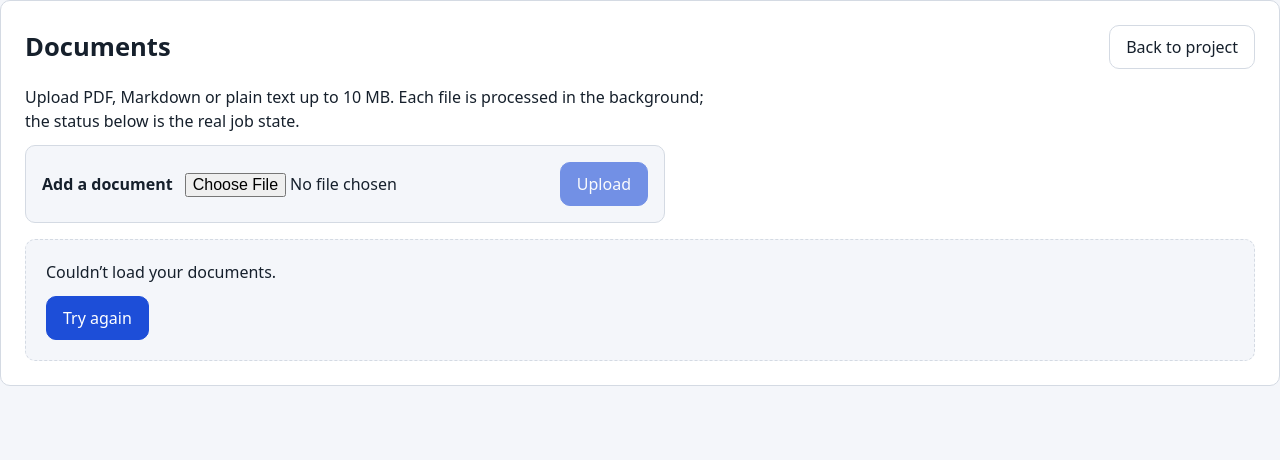
Test: the error state is actionable and a retry recovers the list
Click the button "Try again".
click(97, 318)  # box [46,296,149,340]
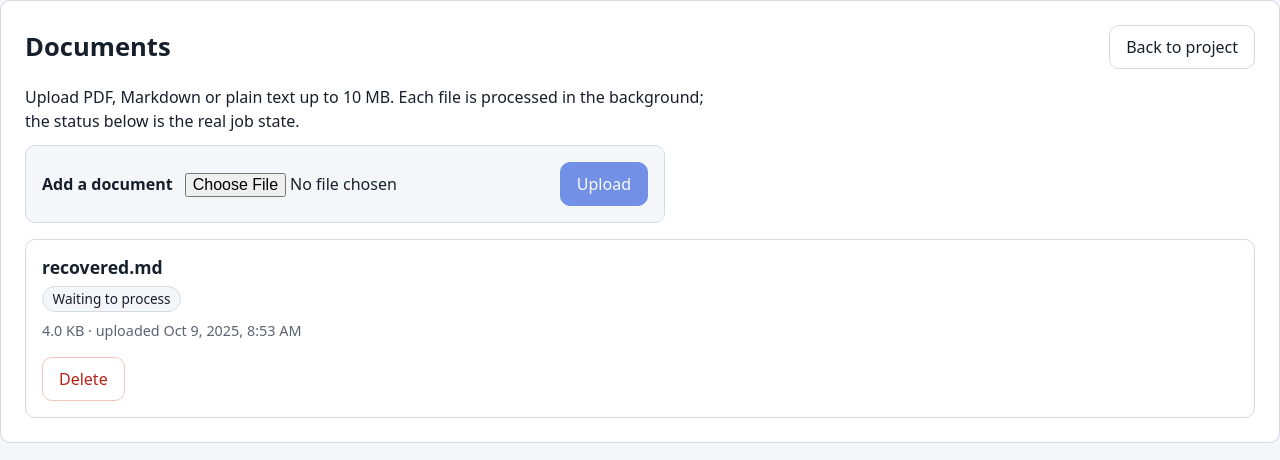
Check: the heading "recovered.md" is shown, box [42,255,163,279]
